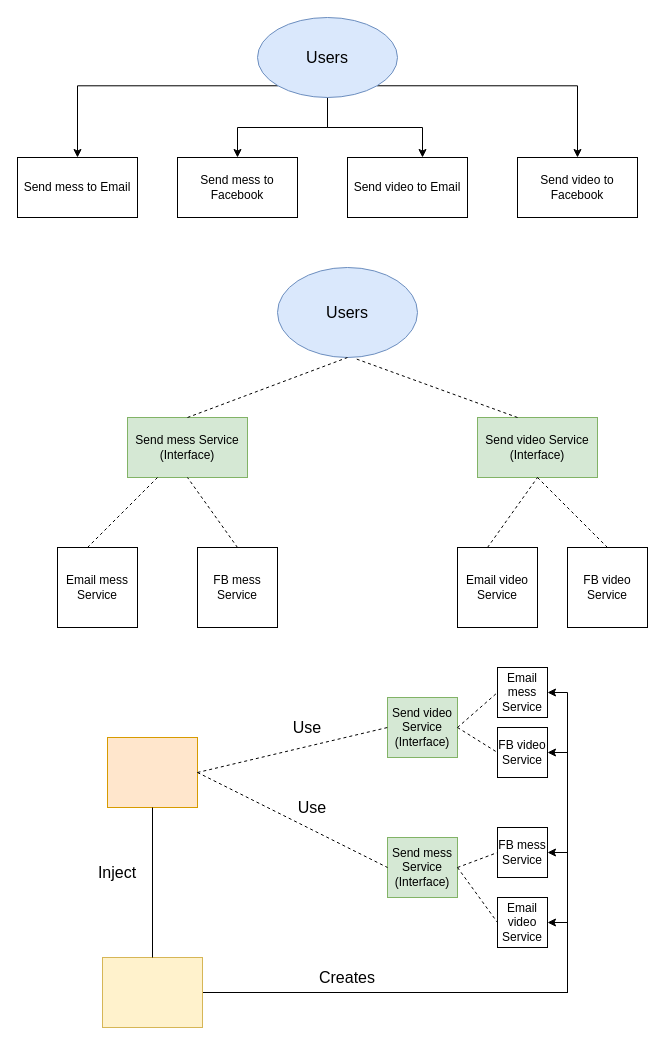
The diagram is 665 pixels wide and 1045 high, and some of its shapes have lost their labels. Each missing label, with the centre of its shape:
"Consumer" belongs at point (152, 772).
"Injector" belongs at point (152, 992).
